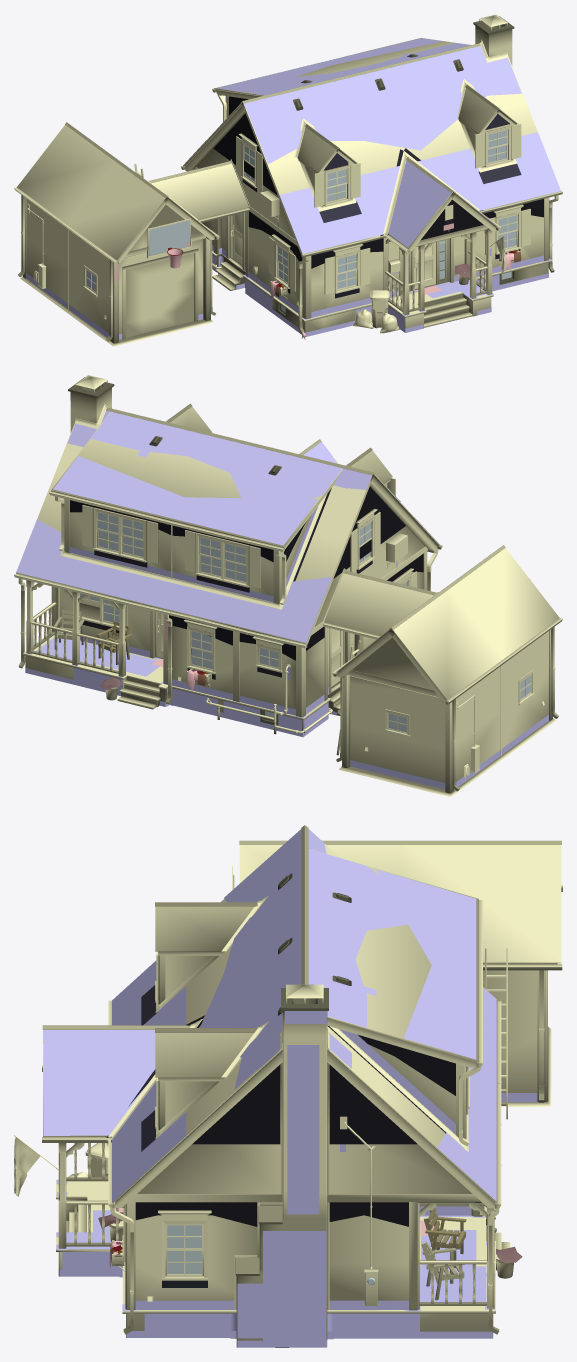
The model's file is american_house_MARK_2.fbx.
The picture shows the model from 3 angles, top to bottom: view 1: azimuth 30°, elevation 25°; view 2: azimuth 150°, elevation 25°; view 3: azimuth 270°, elevation 25°; orthographic projection. The views are drawn at different scales.
Parts seen in each view (by area): view 1: american_house_MARK_2; view 2: american_house_MARK_2; view 3: american_house_MARK_2.
Boxes of the visible parts, <box> form: american_house_MARK_2: <box>14,14,562,346</box>; american_house_MARK_2: <box>14,375,562,796</box>; american_house_MARK_2: <box>14,825,562,1347</box>.
Bounding box in the file's own units: 1494 × 761 × 1067.
